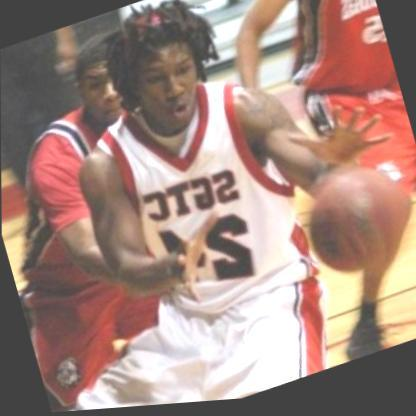basketball: (289, 152, 416, 294)
